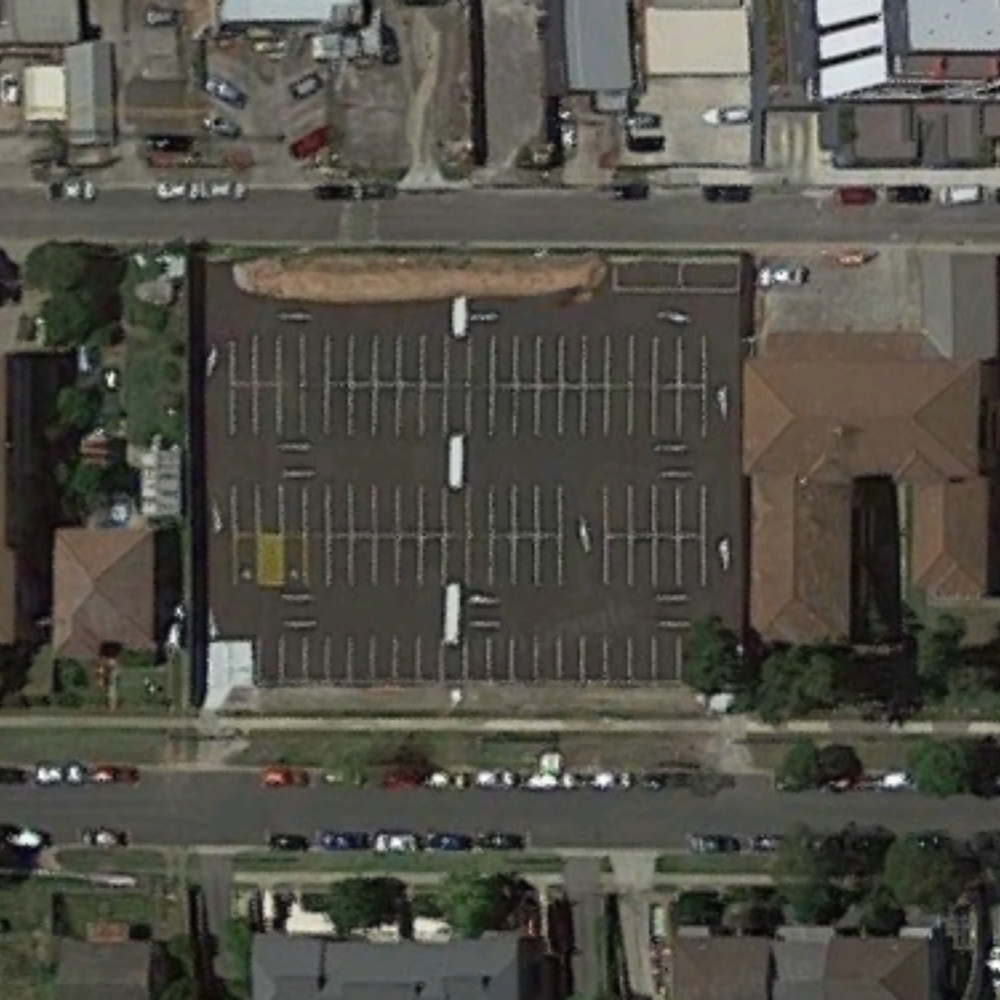parking: (190, 245, 745, 680)
